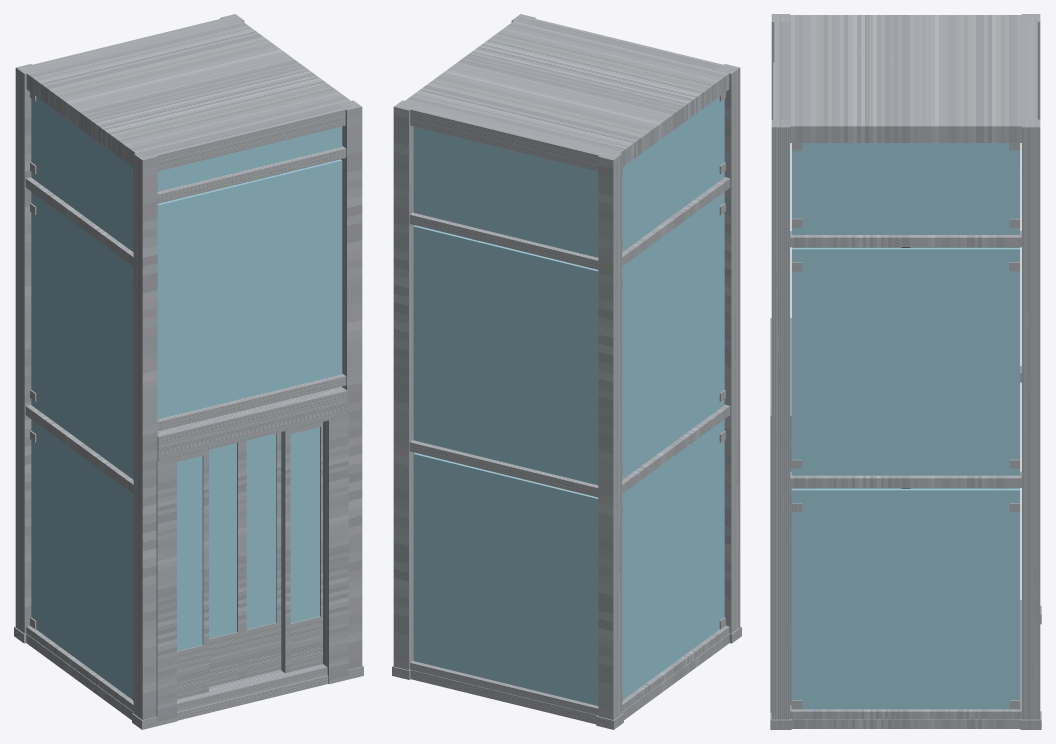
Rendered from lift.glb.
3 views of the same model, side by side, from view 1: azimuth 30°, elevation 25°; view 2: azimuth 150°, elevation 25°; view 3: azimuth 270°, elevation 25° (orthographic). The views are drawn at different scales.
Visible parts, largest first — view 1: shaft-glass (×5), landing-door-leaf (×4), shaft-post (×3), lift-cap-top, canonical, shaft-crossbeam (×5), lift-cap-bottom (×2); view 2: shaft-glass (×6), shaft-post (×3), lift-cap-top, shaft-crossbeam (×6), lift-cap-bottom (×2), canonical; view 3: shaft-glass (×3), lift-cap-top, shaft-post (×3), shaft-crossbeam (×3), canonical, lift-cap-bottom.
Part boxes in pixels (bbox=[...]): shaft-glass (×5): bbox=[31, 96, 342, 699]; landing-door-leaf (×4): bbox=[177, 422, 322, 699]; shaft-post (×3): bbox=[15, 64, 362, 719]; lift-cap-top: bbox=[20, 15, 350, 171]; canonical: bbox=[14, 92, 363, 729]; shaft-crossbeam (×5): bbox=[25, 146, 346, 719]; lift-cap-bottom (×2): bbox=[35, 632, 327, 711]; shaft-glass (×6): bbox=[413, 96, 724, 705]; shaft-post (×3): bbox=[393, 64, 740, 719]; lift-cap-top: bbox=[404, 16, 736, 171]; shaft-crossbeam (×6): bbox=[409, 177, 730, 724]; lift-cap-bottom (×2): bbox=[410, 632, 720, 715]; canonical: bbox=[392, 92, 741, 729]; shaft-glass (×3): bbox=[791, 143, 1020, 709]; lift-cap-top: bbox=[774, 15, 1037, 142]; shaft-post (×3): bbox=[771, 14, 1040, 719]; shaft-crossbeam (×3): bbox=[790, 231, 1021, 728]; canonical: bbox=[770, 143, 1041, 729]; lift-cap-bottom: bbox=[809, 709, 1002, 718].
Bounding box in the file's own units: 2.04 × 5 × 2.04.
10 materials, 3 textured.
